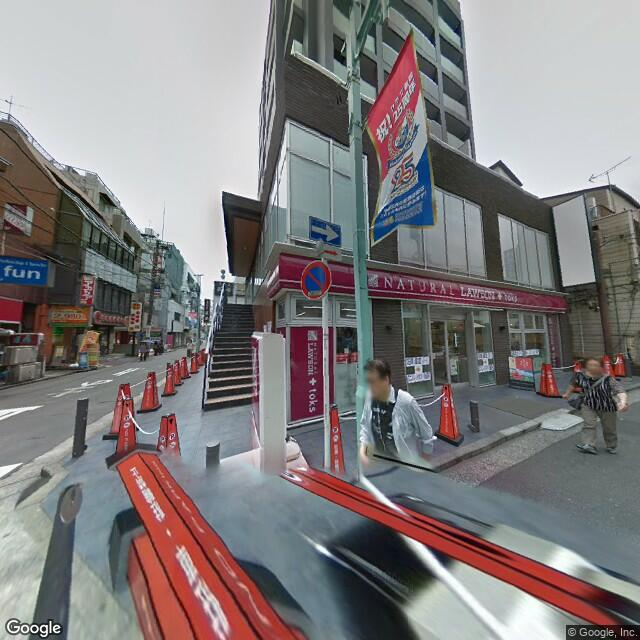lawson: (281, 251, 569, 318), (292, 322, 321, 426)
